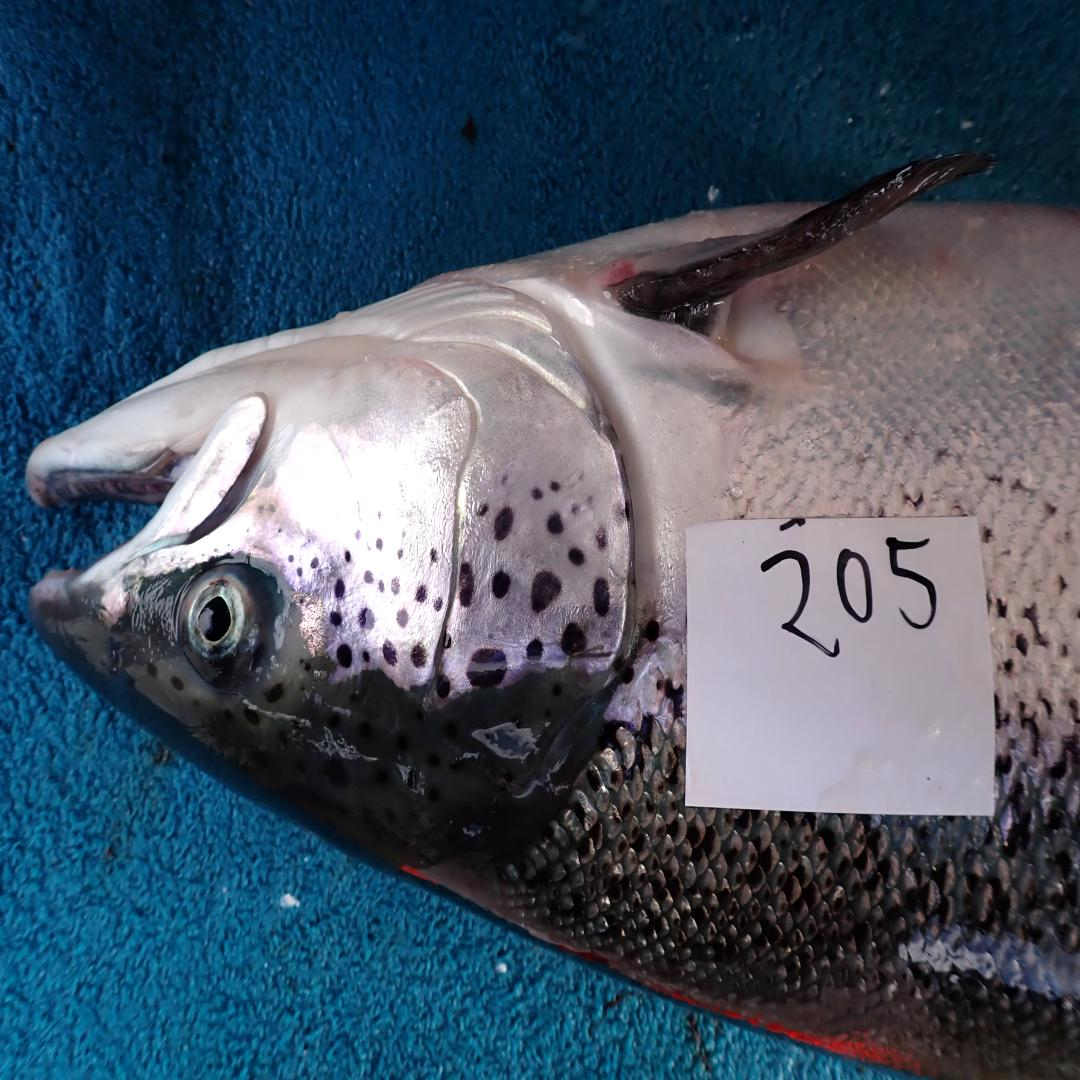roi: (272, 273, 634, 711)
